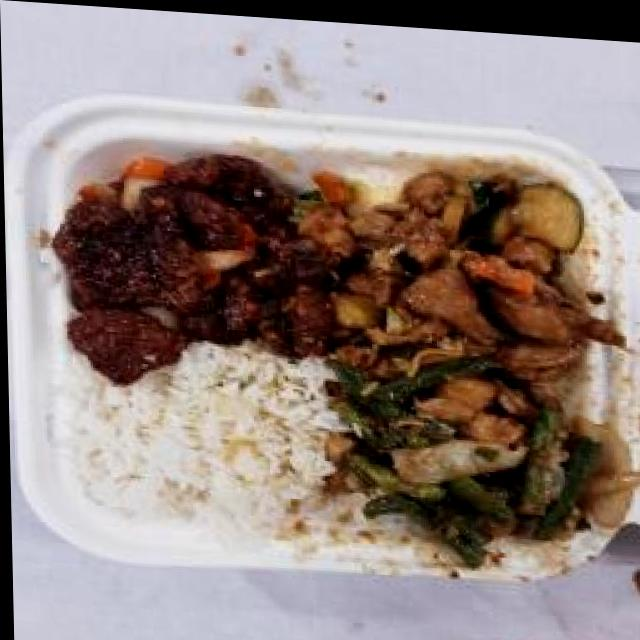Beijing Beef: (42, 134, 327, 397)
Kung Pao Chicken: (315, 146, 609, 385)
String Bean Chicken Breast: (329, 347, 602, 556)
White Steamed Rice: (79, 352, 337, 535)
